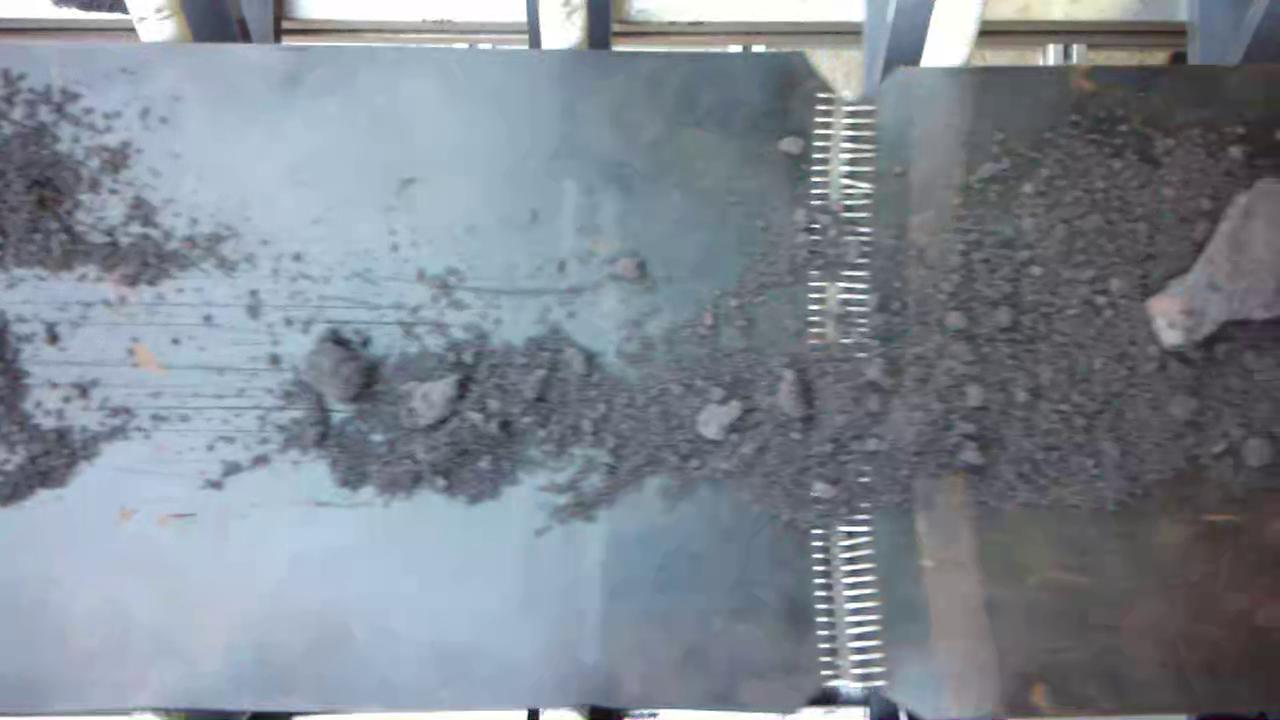conveyor: (0, 70, 1280, 704)
